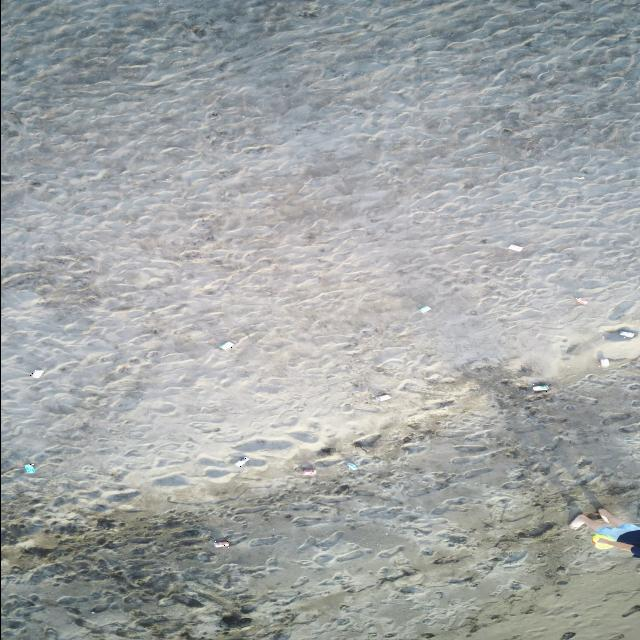Garbage: (353, 433, 380, 451), (603, 327, 636, 340), (592, 533, 612, 548), (300, 464, 316, 475), (235, 455, 247, 467), (219, 340, 233, 350), (28, 369, 43, 377), (532, 383, 547, 391), (344, 460, 356, 470), (507, 244, 522, 252), (319, 447, 333, 455), (212, 539, 228, 546), (617, 329, 635, 335), (375, 393, 390, 400), (24, 463, 35, 472), (419, 304, 431, 312), (600, 356, 607, 367), (576, 296, 587, 303), (573, 176, 584, 179)
